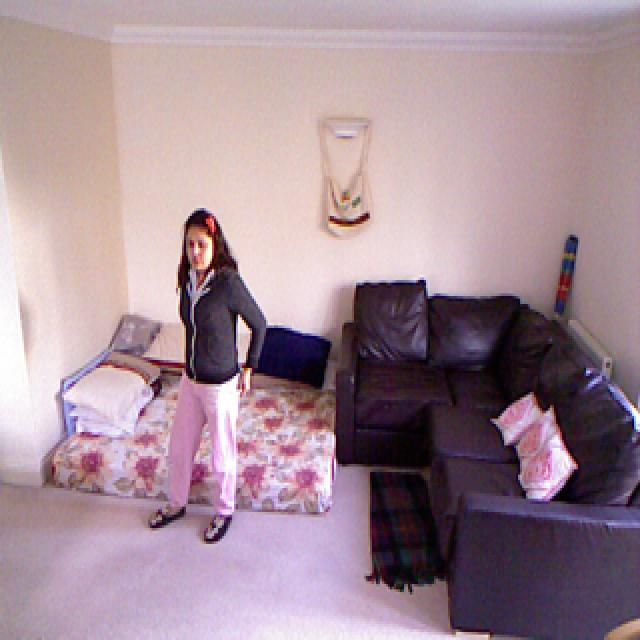standing: (148, 210, 268, 542)
